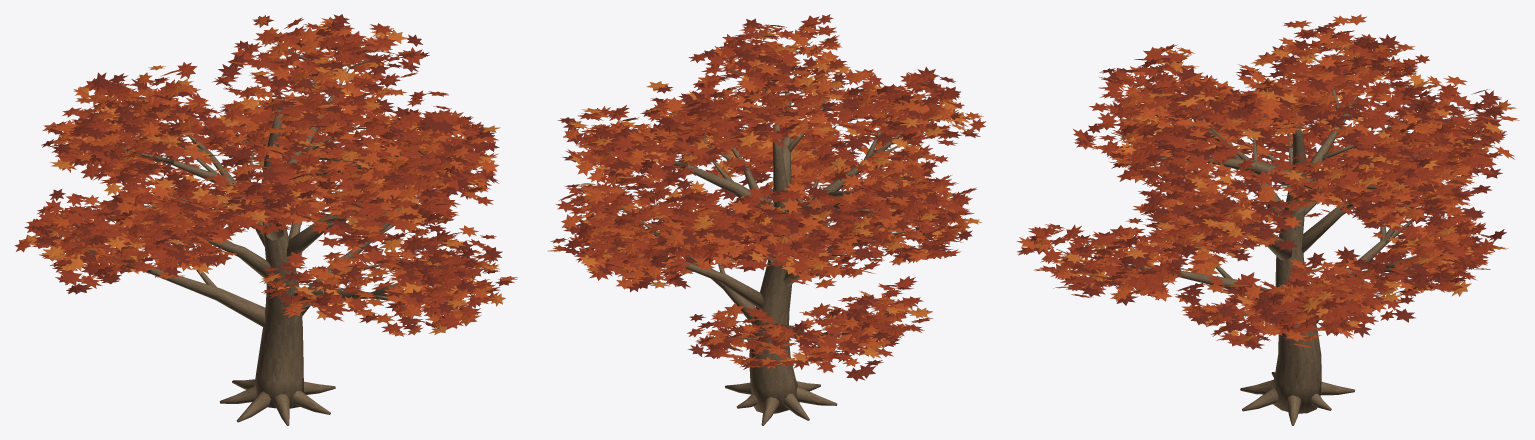
File: maple-tree.glb
3 views of the same model, side by side, from view 1: azimuth 30°, elevation 25°; view 2: azimuth 150°, elevation 25°; view 3: azimuth 270°, elevation 25° (orthographic). The views are drawn at different scales.
Parts seen in each view (by area): view 1: 红枫 · 立体叶冠, 红枫 · 树干与枝系; view 2: 红枫 · 立体叶冠, 红枫 · 树干与枝系; view 3: 红枫 · 立体叶冠, 红枫 · 树干与枝系.
Boxes of the visible parts, left/top/right/bottom form: 红枫 · 立体叶冠: left=14, top=14, right=517, bottom=336; 红枫 · 树干与枝系: left=59, top=43, right=461, bottom=425; 红枫 · 立体叶冠: left=548, top=14, right=985, bottom=381; 红枫 · 树干与枝系: left=589, top=41, right=946, bottom=425; 红枫 · 立体叶冠: left=1016, top=14, right=1519, bottom=349; 红枫 · 树干与枝系: left=1056, top=49, right=1480, bottom=425.
Size of the model in its own units: 7.86 by 6.21 by 8.22.
Materials: 5 (1 with a texture image).
